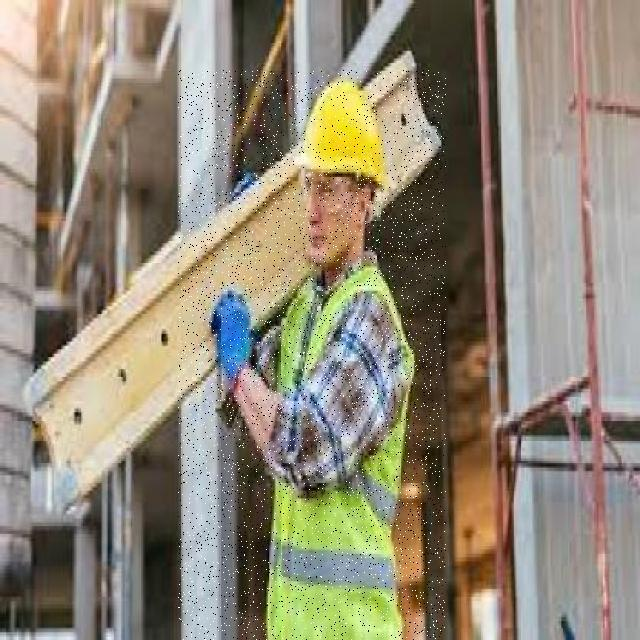helmet: (295, 77, 389, 194)
